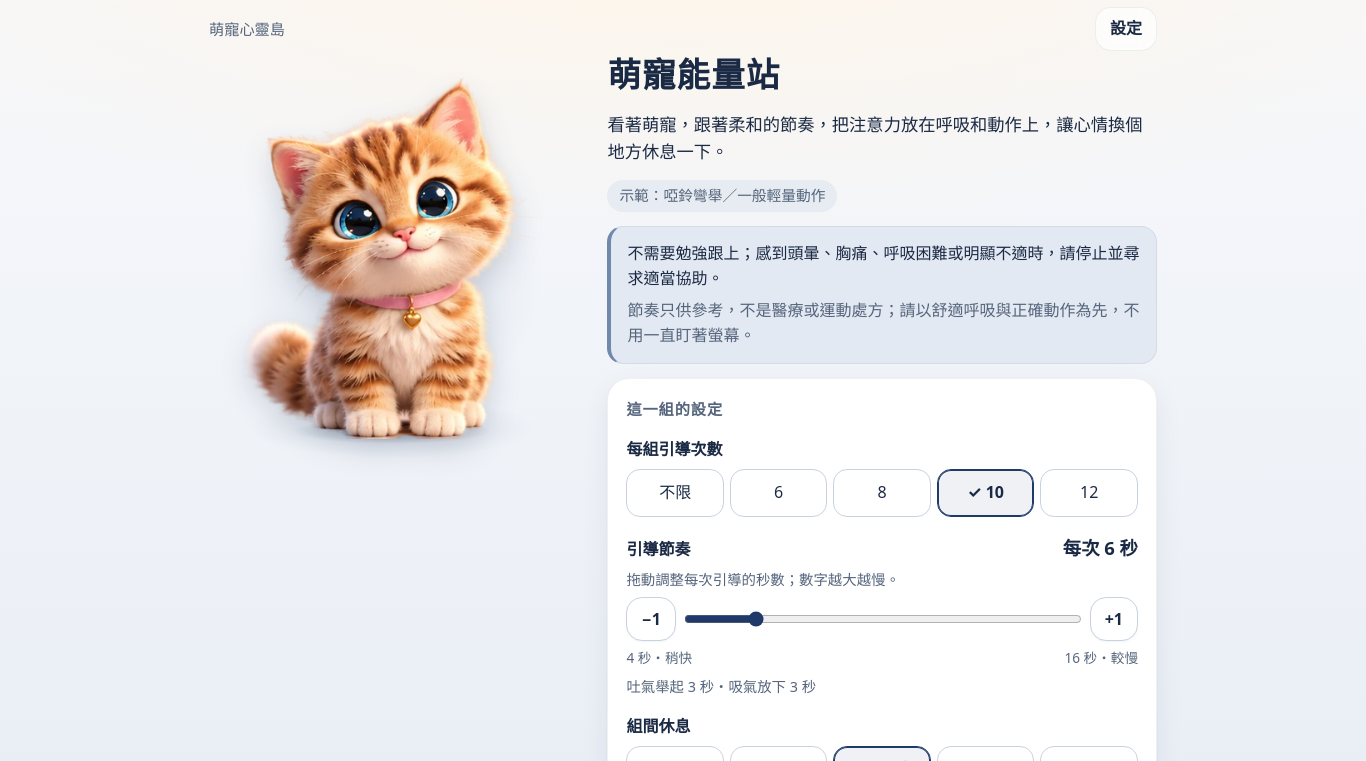
it: 萌寵能量站 UI › 達目標只到完成畫面，不自動下一組；結束本組不計半循環
Click the radio button labelled "6" at (779, 493), box 730,469 -> 827,517
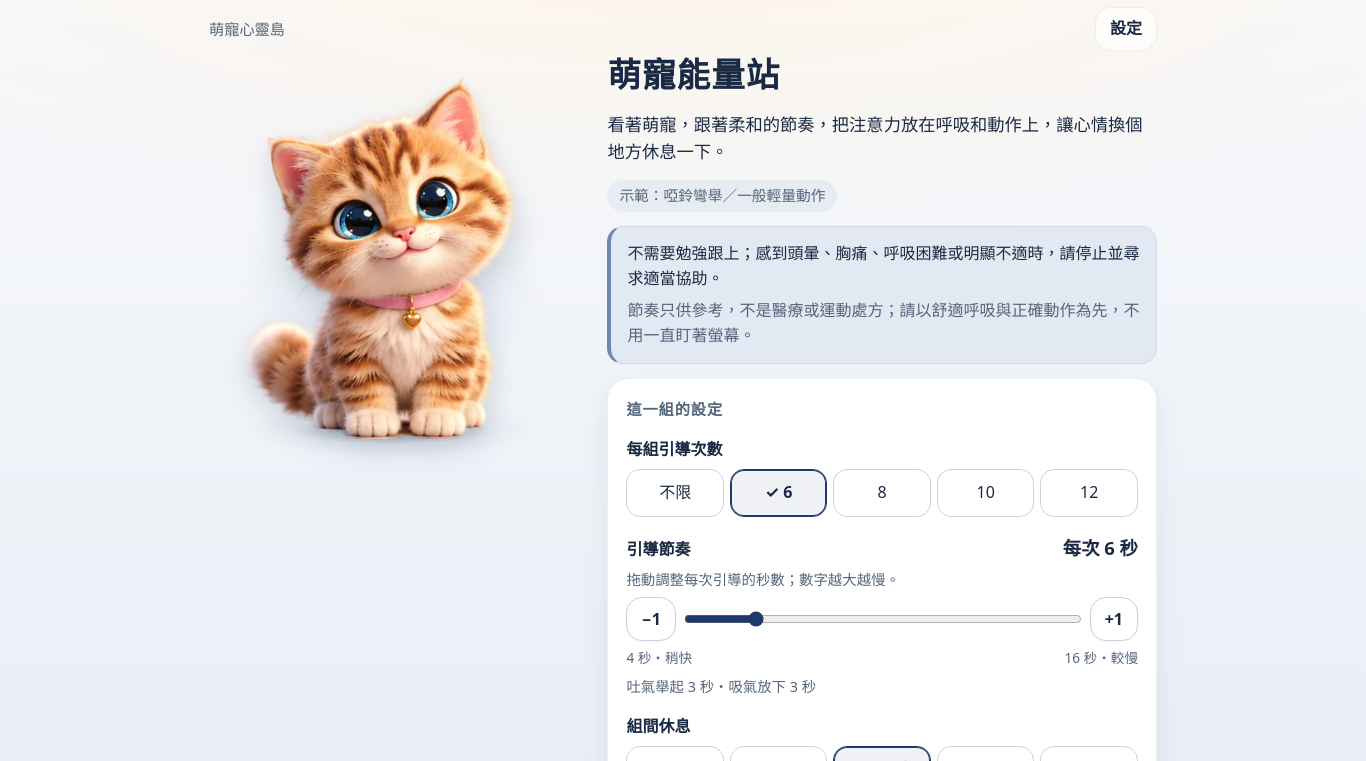
Set the slider labelled "引導節奏" to "4" at (692, 619), box 684,597 -> 1082,641
(page scrolled)
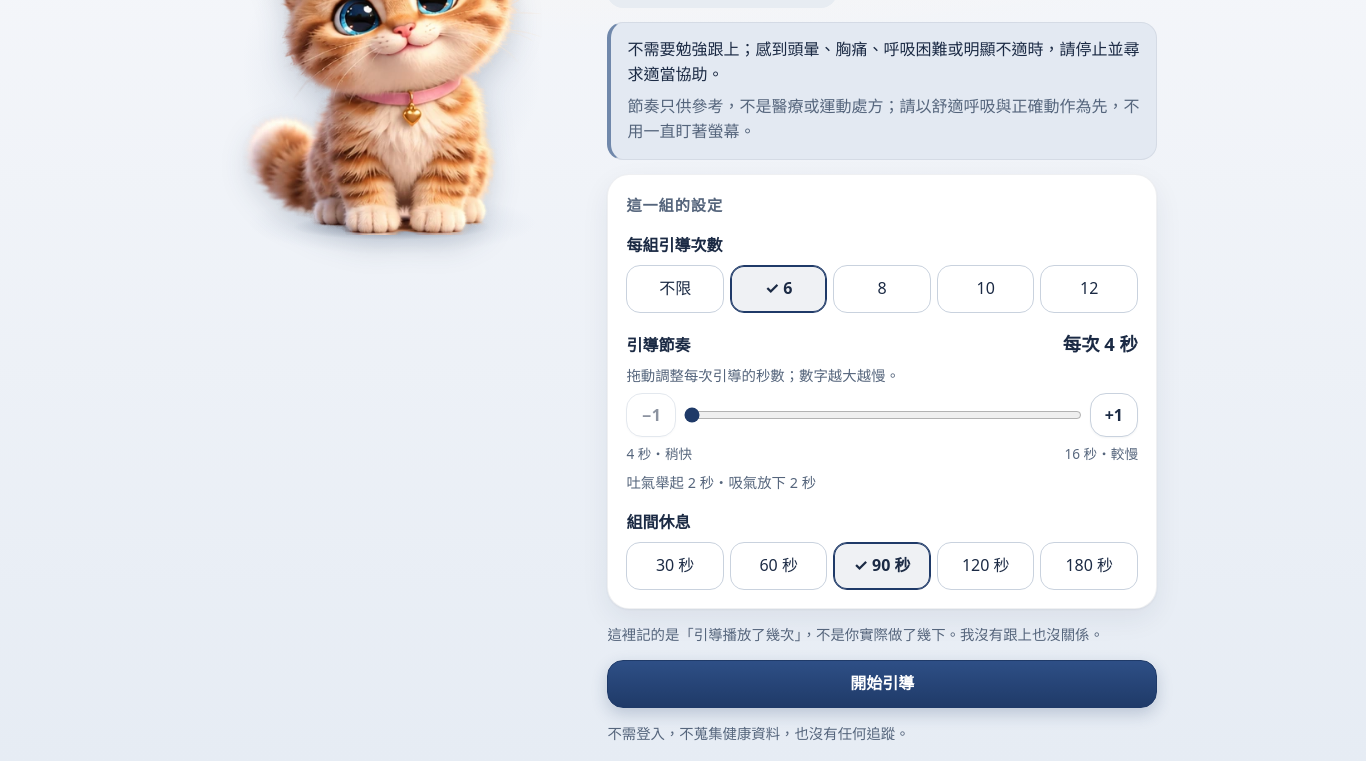
Click the button "開始引導" at (882, 684), box 607,660 -> 1157,708
(page scrolled)
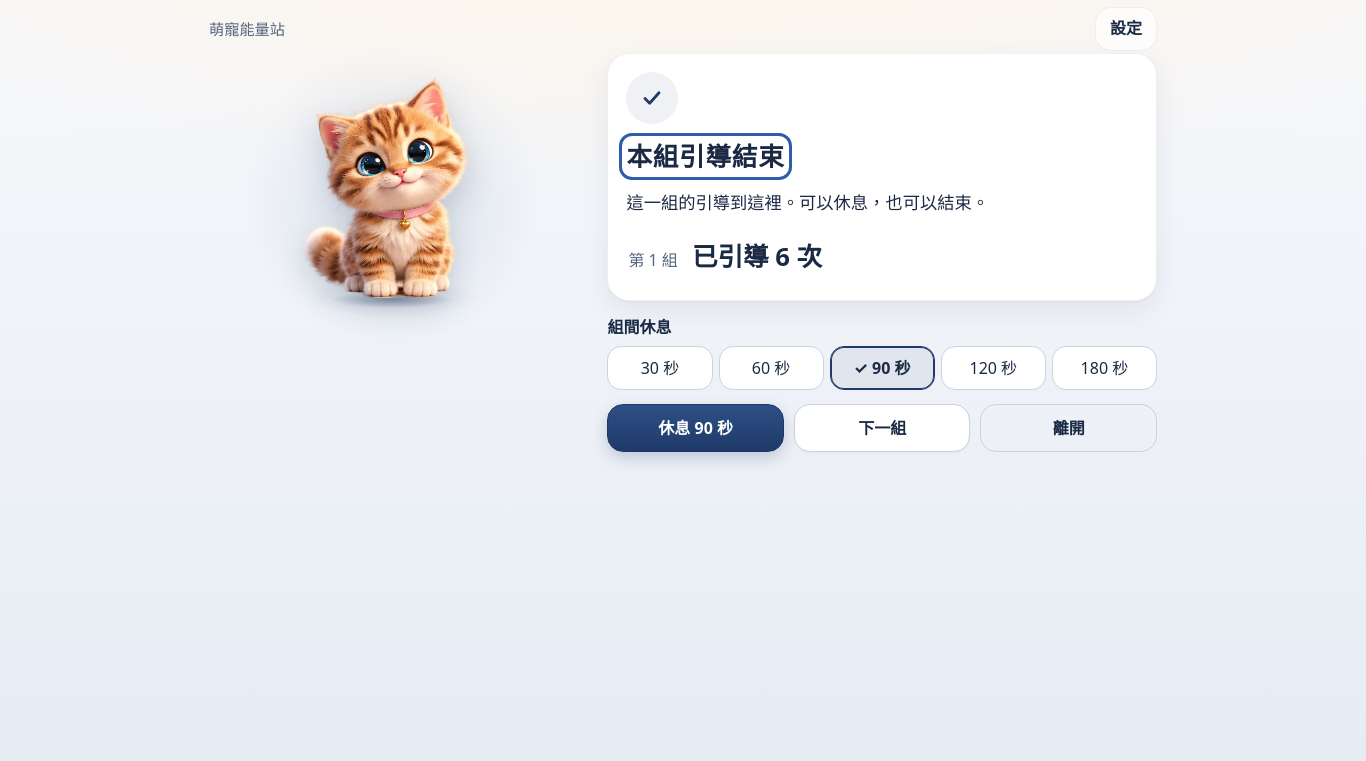
Result: the text "已引導 6 次" is shown at 692,237 -> 822,278
Result: the heading reads "本組引導結束" at 626,139 -> 785,174
Click the button "下一組" at (882, 428), box 794,404 -> 970,452
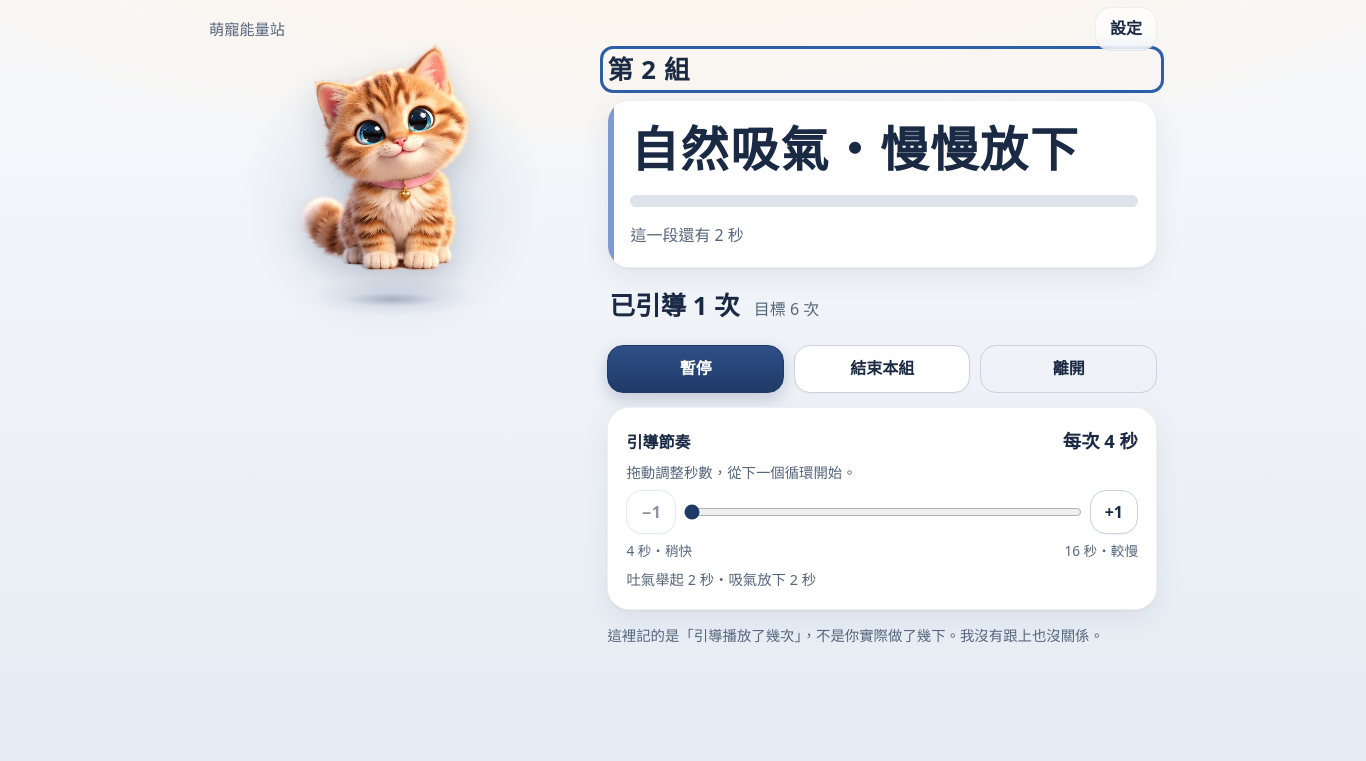
Click the button "結束本組" at (882, 369), box 794,345 -> 970,393
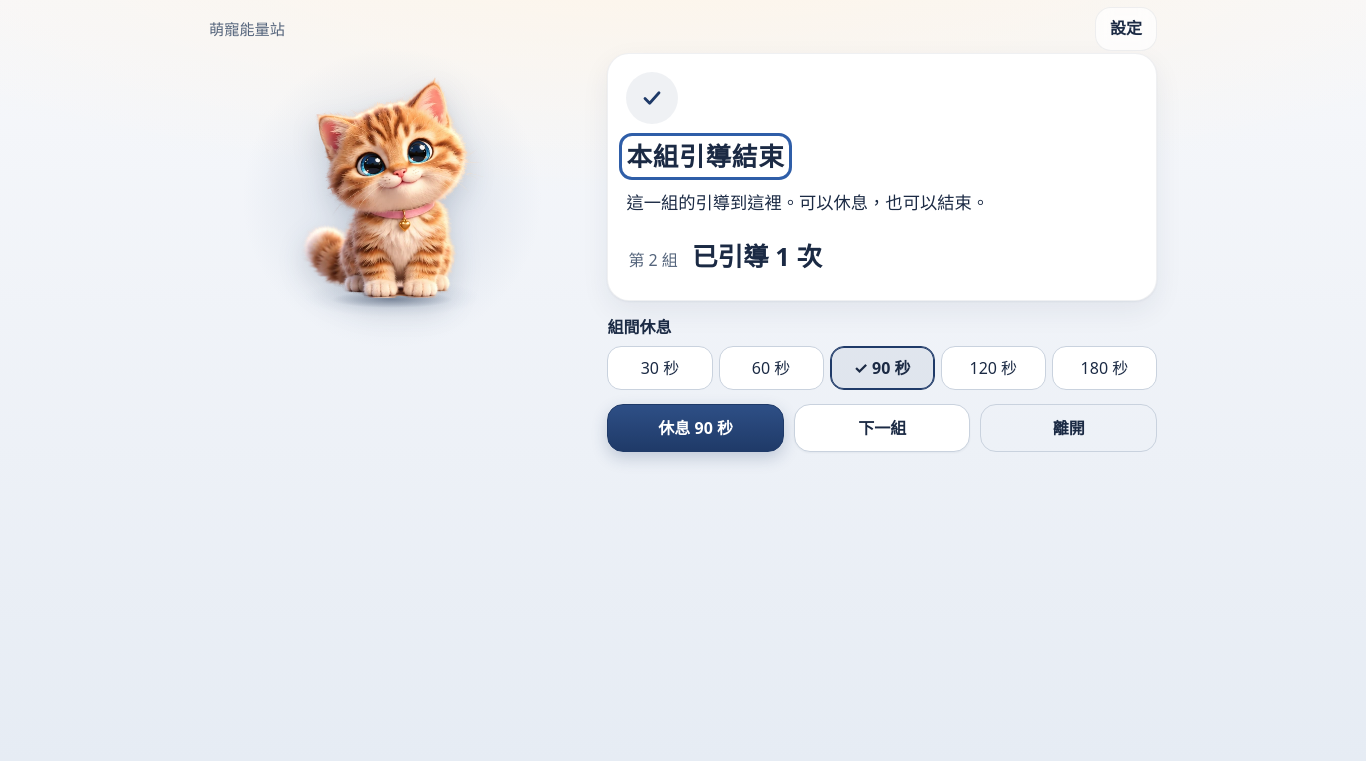
Result: the text "已引導 1 次" is shown at 692,237 -> 822,278
Result: the text "第 2 組" is shown at 628,248 -> 678,274
